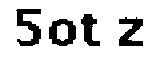5: (8, 6, 44, 53)
o: (48, 16, 78, 50)
t: (82, 10, 106, 52)
z: (113, 13, 151, 53)
